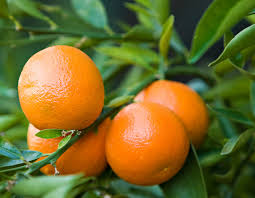orange: (16, 46, 106, 129), (106, 99, 191, 185), (122, 72, 210, 144), (25, 110, 110, 180)
